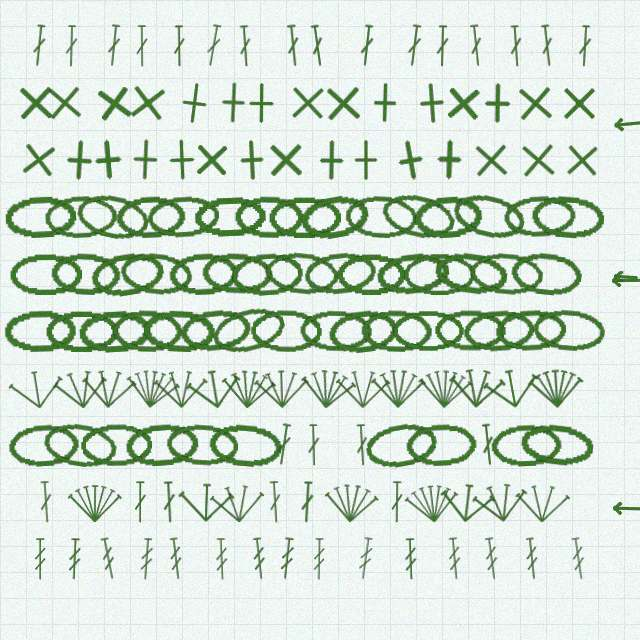chain: (208, 301, 289, 360), (378, 188, 458, 245), (449, 188, 528, 245), (73, 189, 152, 244), (362, 418, 441, 472), (41, 419, 120, 471), (88, 248, 166, 300), (297, 190, 373, 243), (432, 248, 509, 299), (118, 249, 195, 299), (374, 249, 451, 299), (518, 420, 595, 470), (263, 249, 340, 298), (302, 249, 379, 298), (326, 306, 401, 356), (178, 306, 254, 355), (468, 250, 544, 298), (207, 421, 283, 469), (509, 249, 583, 298), (530, 193, 605, 240), (531, 307, 606, 354), (124, 421, 199, 468), (230, 251, 305, 297), (412, 193, 485, 240), (146, 194, 220, 240), (77, 308, 151, 354), (7, 422, 81, 468), (165, 422, 239, 468), (462, 308, 535, 354), (3, 194, 77, 239), (344, 194, 418, 239), (503, 194, 577, 239), (44, 194, 117, 239), (201, 251, 274, 296), (142, 308, 215, 353), (494, 308, 567, 353), (405, 422, 478, 467), (115, 194, 187, 239), (50, 251, 122, 296), (168, 251, 240, 296), (193, 195, 266, 239), (299, 309, 372, 353), (490, 423, 563, 467), (3, 309, 76, 352), (111, 309, 184, 352), (250, 309, 323, 352), (434, 309, 507, 352), (360, 309, 432, 352), (80, 423, 152, 466), (268, 196, 341, 238), (9, 253, 82, 295), (45, 310, 118, 352), (392, 310, 465, 352), (234, 195, 305, 238), (403, 253, 475, 295), (336, 253, 407, 295)
double: (203, 24, 224, 67), (274, 423, 294, 466), (308, 24, 327, 67), (405, 24, 424, 67), (30, 24, 48, 67), (105, 24, 123, 67), (284, 24, 302, 67), (358, 24, 376, 67), (467, 24, 485, 67), (538, 24, 556, 67), (479, 423, 497, 466), (237, 25, 253, 67), (508, 25, 524, 67), (577, 25, 593, 67), (354, 424, 370, 466), (38, 481, 54, 523), (161, 481, 177, 523), (267, 481, 283, 523), (299, 481, 315, 523), (64, 25, 79, 67), (435, 25, 450, 67), (306, 424, 321, 466), (135, 25, 149, 67), (172, 25, 186, 67), (133, 481, 147, 523), (390, 481, 404, 523)
fan: (481, 362, 543, 413), (6, 363, 67, 413), (184, 363, 245, 413), (122, 363, 183, 412), (470, 477, 531, 526), (51, 364, 111, 412), (298, 364, 358, 412), (402, 478, 462, 526), (438, 478, 497, 526), (219, 365, 278, 411), (208, 479, 267, 525), (322, 479, 381, 525), (80, 365, 138, 410), (416, 365, 474, 410), (448, 365, 506, 410), (527, 365, 585, 410), (514, 480, 571, 524), (253, 366, 310, 409), (370, 366, 427, 409), (178, 480, 235, 523), (153, 366, 209, 409), (335, 366, 391, 409), (67, 481, 123, 523)
noise: (611, 116, 640, 132), (609, 273, 640, 287), (610, 502, 640, 515), (611, 271, 638, 282)
single: (90, 79, 138, 127), (386, 136, 434, 184), (124, 79, 171, 126), (15, 136, 62, 183), (171, 80, 217, 126), (42, 80, 87, 125), (85, 137, 130, 182), (321, 81, 365, 125), (410, 81, 454, 125), (441, 81, 485, 125), (513, 81, 557, 125), (57, 138, 101, 182), (230, 138, 274, 182), (469, 138, 513, 182), (516, 138, 560, 182), (560, 138, 604, 182), (14, 81, 57, 124), (212, 81, 255, 124), (286, 81, 329, 124), (363, 81, 406, 124), (124, 138, 167, 181), (160, 138, 203, 181), (190, 138, 233, 181), (264, 138, 307, 181), (428, 138, 471, 181), (240, 82, 282, 124), (476, 82, 518, 124), (558, 82, 600, 124), (310, 139, 352, 181), (345, 139, 387, 181)
treble: (98, 537, 119, 580), (356, 537, 375, 580), (482, 537, 501, 580), (569, 537, 588, 580), (167, 537, 185, 580), (250, 537, 268, 580), (278, 537, 296, 580), (523, 537, 541, 580), (446, 537, 463, 580), (138, 538, 155, 580), (67, 538, 82, 580), (214, 538, 229, 580), (403, 538, 418, 580), (33, 538, 47, 580), (312, 538, 326, 580)
